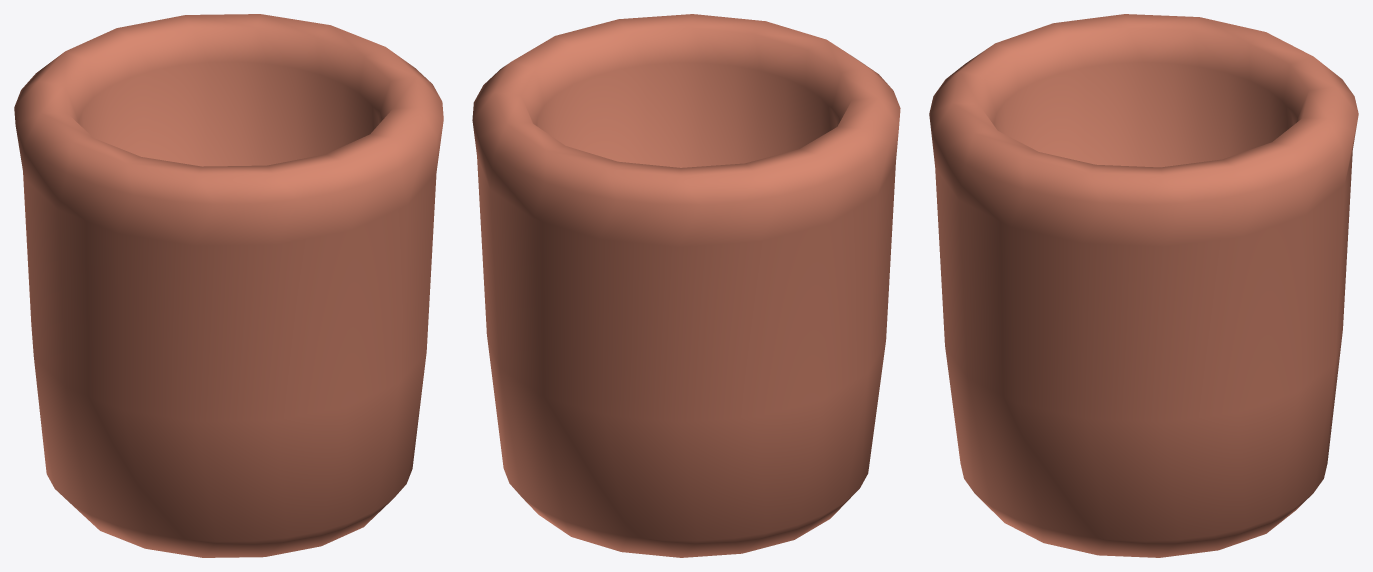
Rendered from ClayDish_04 1.fbx.
3 renders of one model, left to right at view 1: azimuth 30°, elevation 25°; view 2: azimuth 150°, elevation 25°; view 3: azimuth 270°, elevation 25°, orthographic.
Parts seen in each view (by area): view 1: ClayDish_04; view 2: ClayDish_04; view 3: ClayDish_04.
Boxes of the visible parts, x1,y1,x2,y2 form: ClayDish_04: (14,14,443,557); ClayDish_04: (472,14,900,557); ClayDish_04: (929,14,1358,557).
Size of the model in its own units: 16.03 by 16.33 by 16.03.
